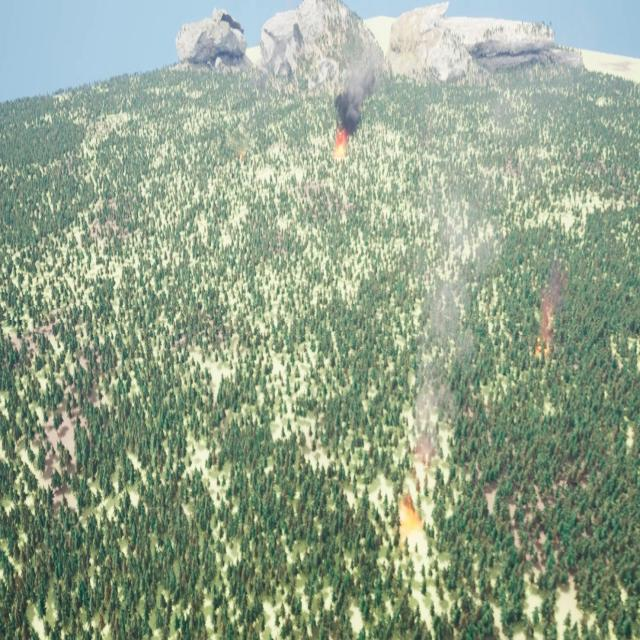fire: (397, 490, 421, 534), (332, 127, 348, 152), (536, 326, 548, 356)
smoke: (412, 171, 502, 482), (335, 58, 378, 132), (540, 278, 562, 328)
